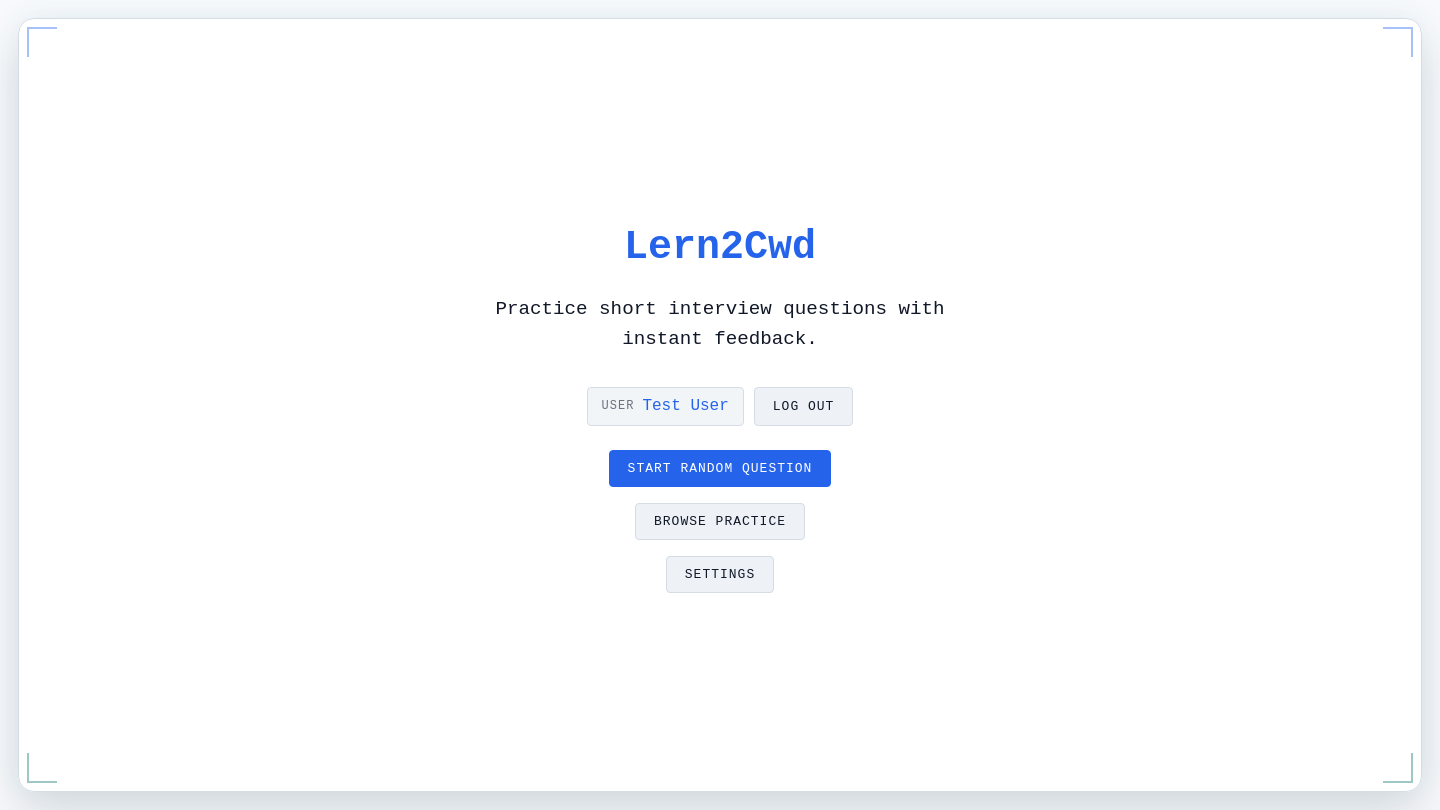
Test: App session context › lets the user return home from the session top bar
Click the button with test id "start-session-button" at (720, 468), box [609,450,831,487]
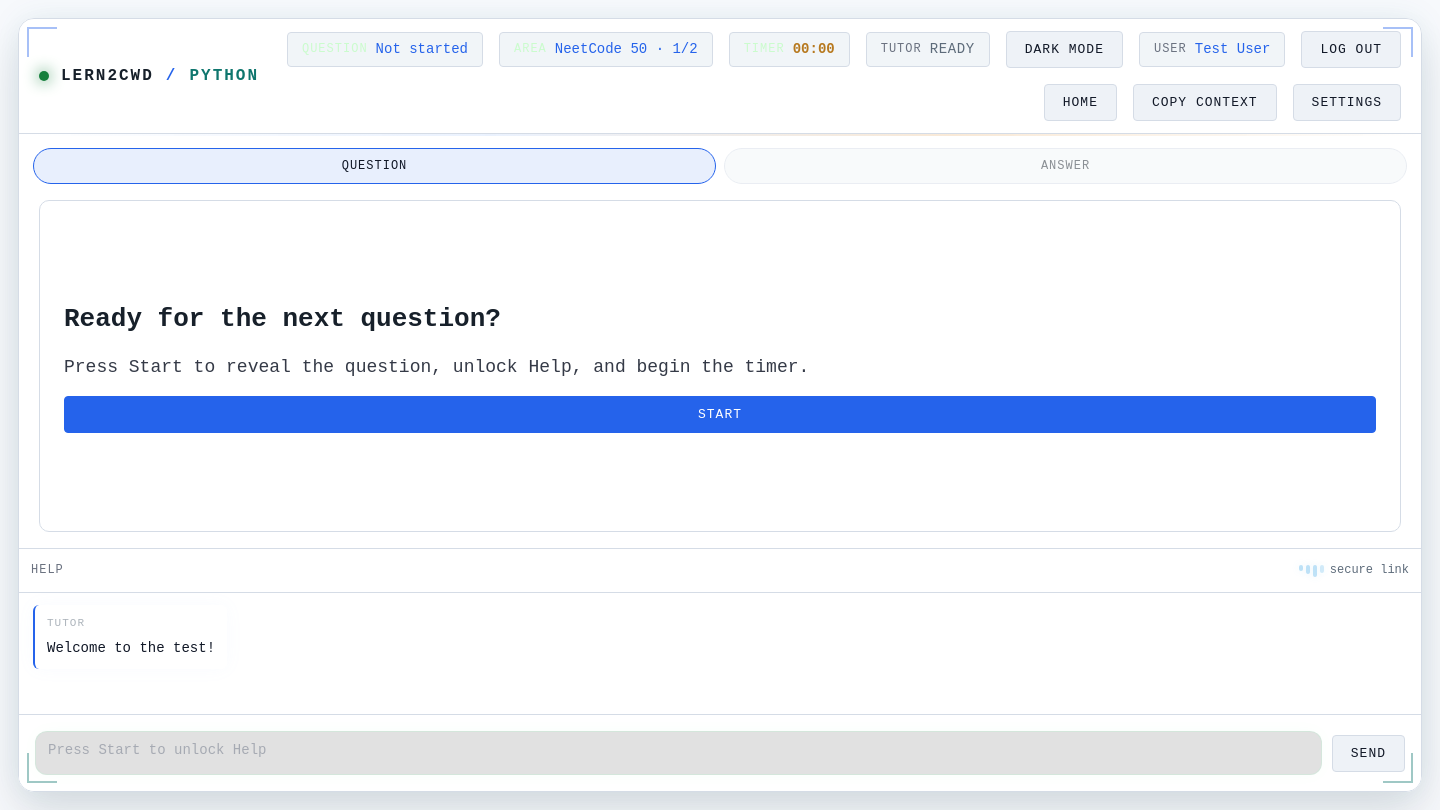
Expected: the button "Start" is shown, [64,396,1376,433]
Expected: the button with test id "home-nav-button" is shown
Click the button with test id "home-nav-button" at (1080, 102), box [1044,84,1117,121]
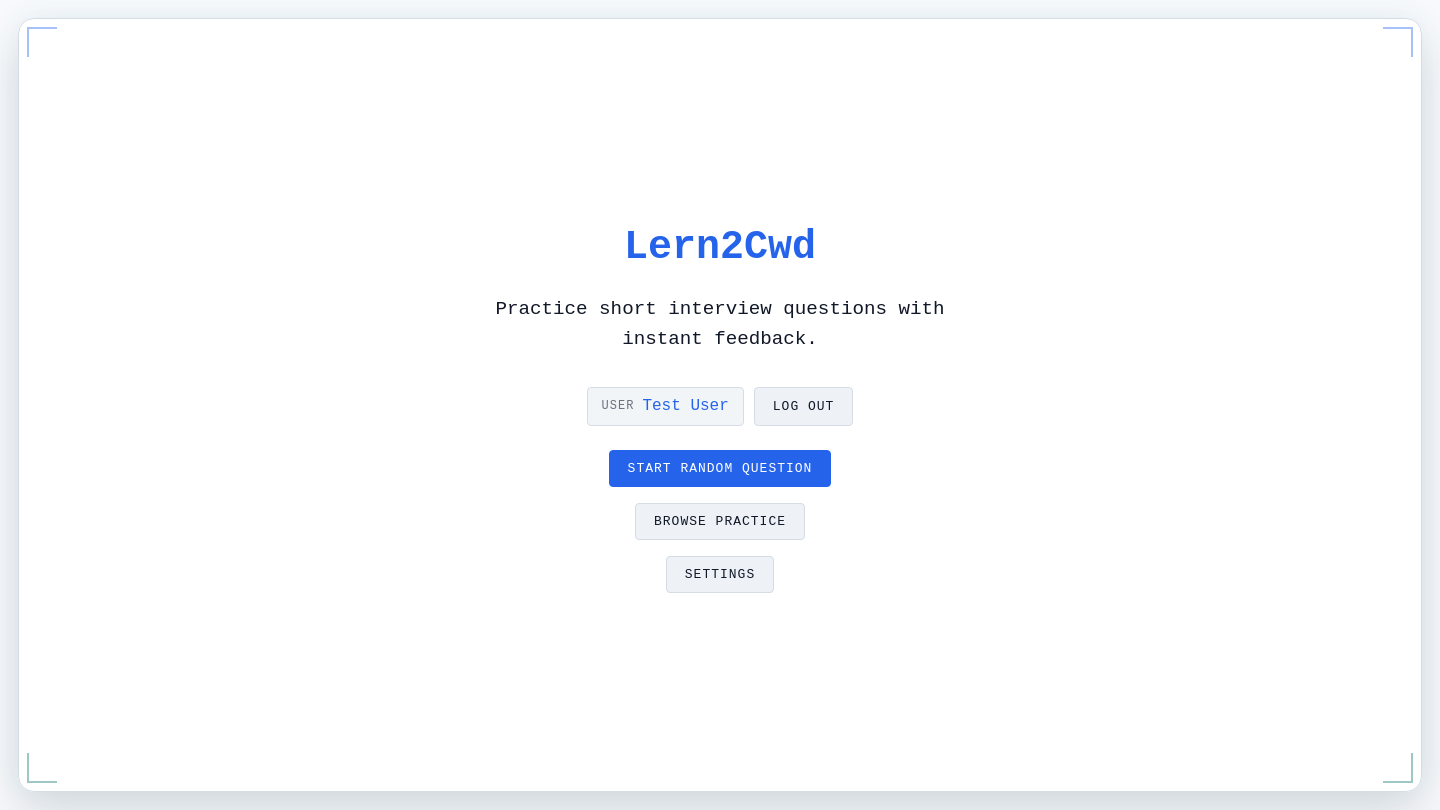
Expected: the element with test id "home-view" is shown, [496,225,945,593]
